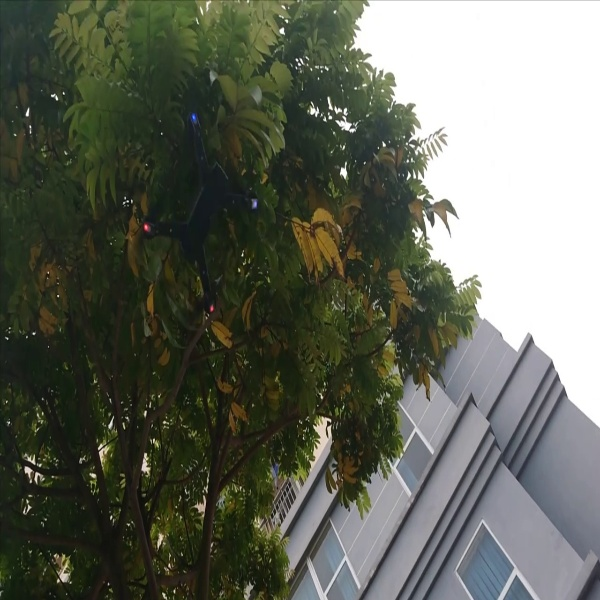drone: (135, 110, 263, 317)
